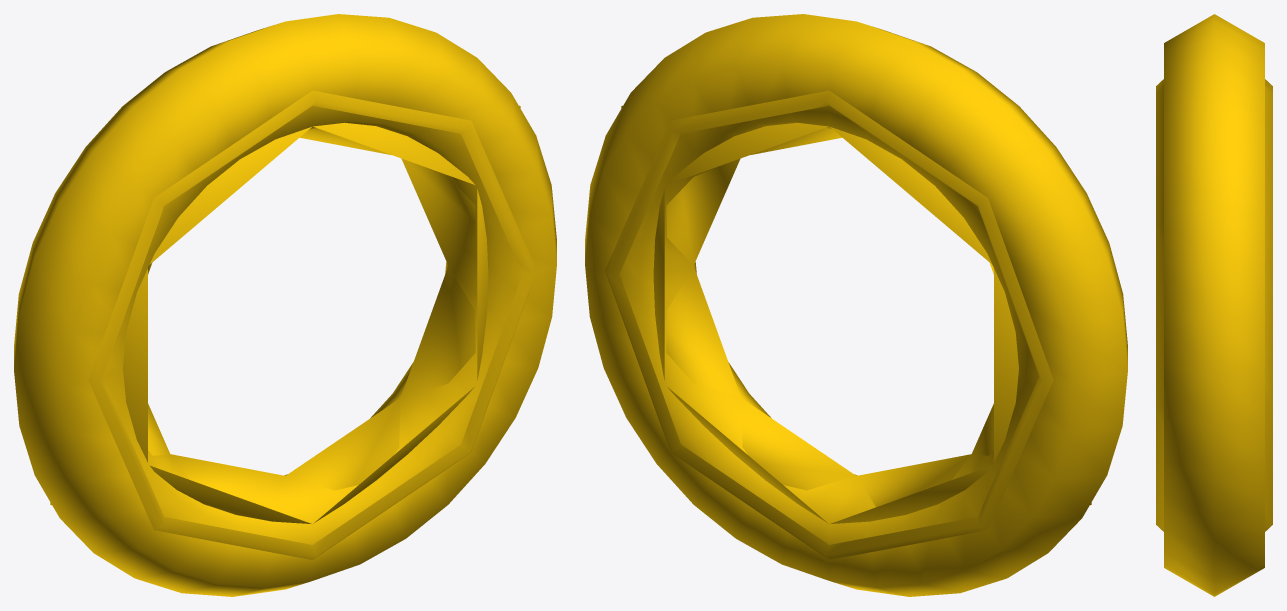
File: Ring.glb
3 renders of one model, left to right at view 1: azimuth 30°, elevation 25°; view 2: azimuth 150°, elevation 25°; view 3: azimuth 270°, elevation 25°, orthographic. The views are drawn at different scales.
Visible parts, largest first — view 1: RingMDL_Hi, RingMDL_Mid, RingMDL_Low; view 2: RingMDL_Hi, RingMDL_Mid, RingMDL_Low; view 3: RingMDL_Hi, RingMDL_Mid.
Part boxes in pixels (bbox=[...]): RingMDL_Hi: bbox=[14, 14, 556, 596]; RingMDL_Mid: bbox=[88, 90, 536, 559]; RingMDL_Low: bbox=[50, 105, 520, 523]; RingMDL_Hi: bbox=[585, 14, 1127, 596]; RingMDL_Mid: bbox=[605, 90, 1053, 559]; RingMDL_Low: bbox=[621, 105, 1091, 523]; RingMDL_Hi: bbox=[1164, 14, 1264, 596]; RingMDL_Mid: bbox=[1156, 79, 1272, 531].
Bounding box in the file's own units: 0.6 × 0.6 × 0.12.
